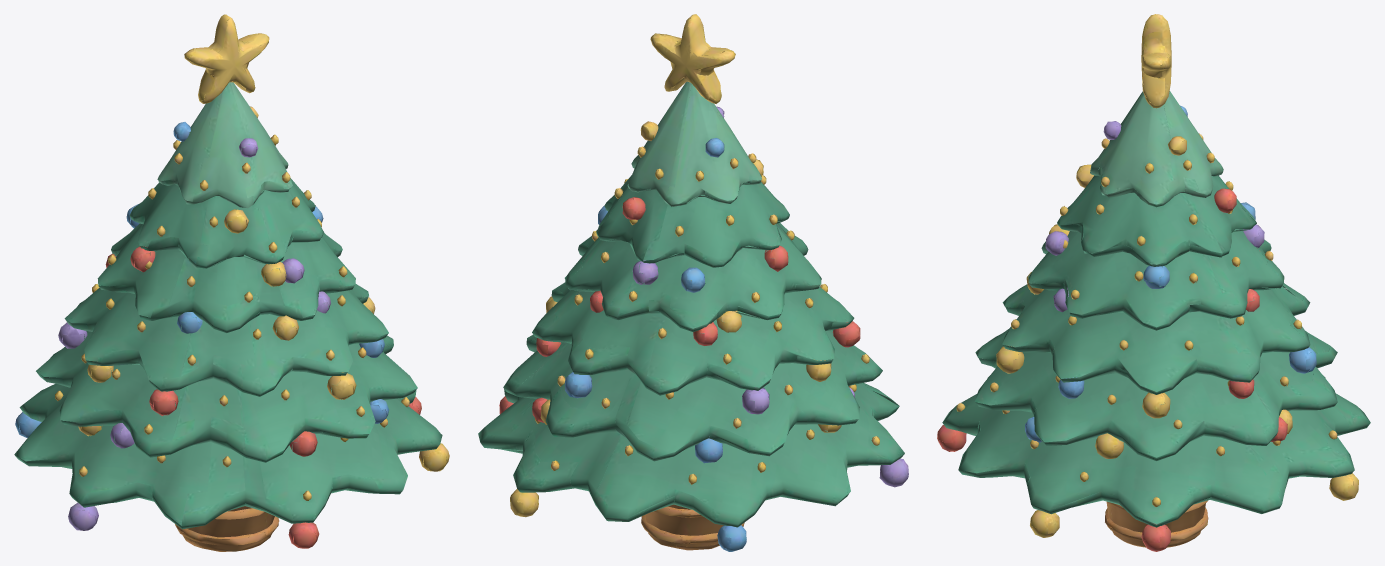
File: christmas-tree.glb
3 views of the same model, side by side, from view 1: azimuth 30°, elevation 25°; view 2: azimuth 150°, elevation 25°; view 3: azimuth 270°, elevation 25° (orthographic).
Visible parts, largest first — view 1: christmas-tree_body; view 2: christmas-tree_body; view 3: christmas-tree_body.
Part boxes in pixels (x1,y1,x2,y2): christmas-tree_body: [14, 14, 449, 551]; christmas-tree_body: [478, 14, 908, 551]; christmas-tree_body: [937, 14, 1370, 551].
Bounding box in the file's own units: 2 × 2.62 × 2.
Materials: 1 (1 with a texture image).
